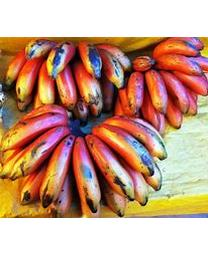banana: (0, 103, 167, 217), (0, 39, 131, 121), (113, 37, 207, 134)
